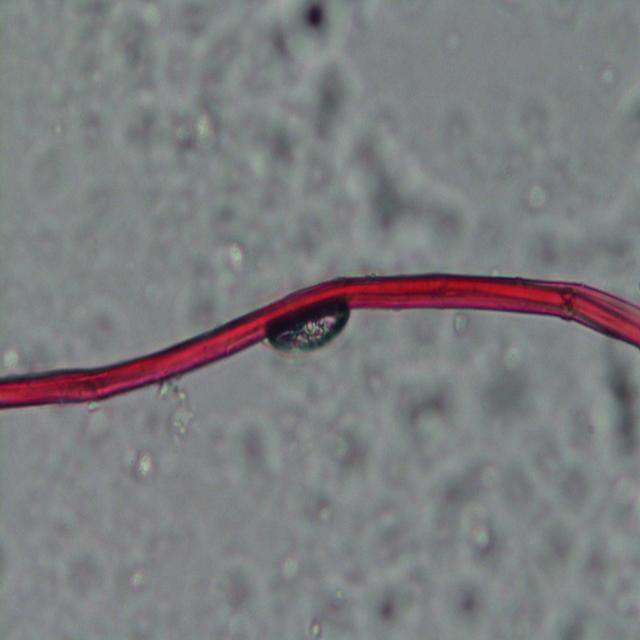Background material: (351, 126, 472, 264), (553, 539, 640, 639), (424, 440, 496, 553), (534, 393, 596, 508), (597, 342, 640, 502), (481, 332, 535, 429), (396, 375, 460, 456), (514, 224, 628, 269), (277, 0, 353, 67), (297, 160, 349, 255), (115, 2, 169, 88), (222, 412, 278, 490), (167, 102, 231, 168), (363, 568, 423, 634), (326, 412, 380, 485), (292, 581, 352, 640), (308, 61, 352, 139), (449, 112, 492, 186), (466, 513, 518, 572), (252, 121, 305, 176), (126, 98, 166, 168), (275, 403, 315, 469), (527, 514, 575, 568), (156, 377, 196, 441), (204, 30, 242, 96), (450, 575, 491, 634), (186, 260, 224, 323), (80, 302, 121, 360), (218, 562, 260, 618), (0, 337, 55, 378), (61, 545, 105, 596), (221, 233, 259, 289), (513, 94, 551, 147), (205, 175, 239, 233), (295, 480, 335, 528), (500, 464, 538, 511), (117, 443, 158, 485), (78, 0, 114, 43), (181, 0, 217, 41), (618, 84, 640, 150), (360, 364, 390, 406), (452, 303, 483, 343), (80, 104, 108, 147), (122, 562, 156, 597), (408, 307, 437, 348), (83, 403, 113, 442), (515, 182, 551, 214), (280, 553, 307, 593), (596, 60, 618, 94)
Cotton: (0, 276, 640, 408)
